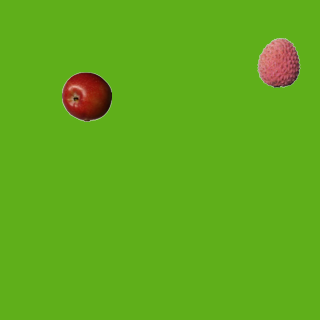Apple Braeburn: (61, 71, 111, 121)
Lychee: (253, 37, 303, 87)
